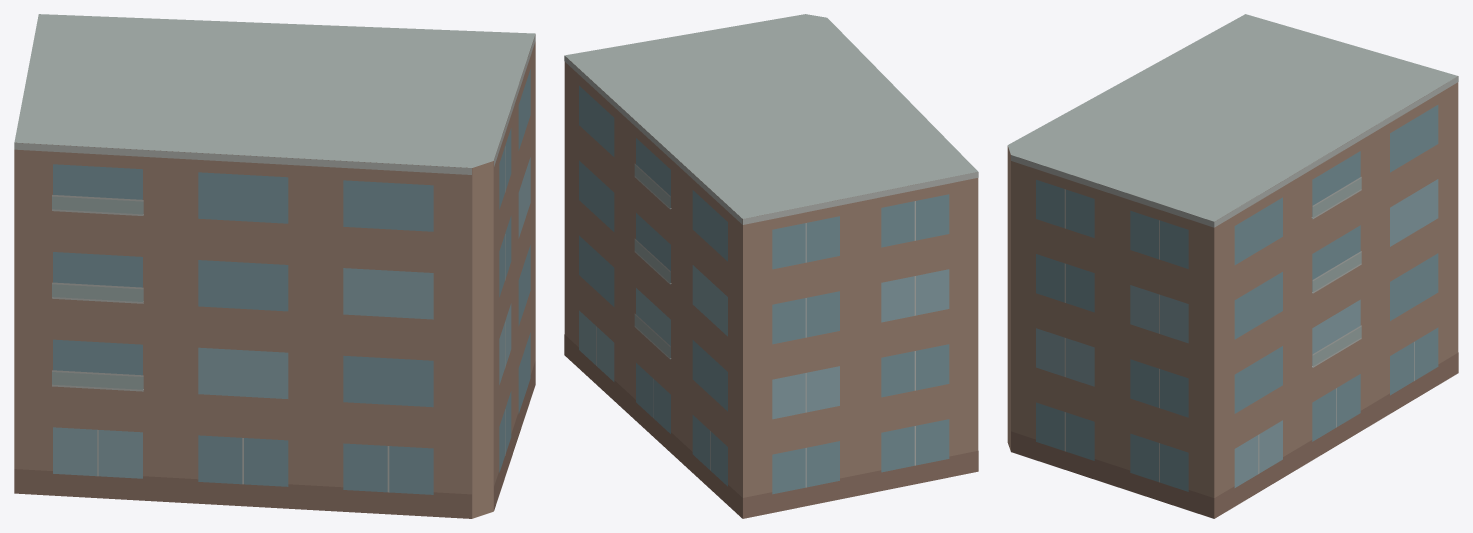
File: survey-upis-32866770.glb
The picture shows the model from 3 angles, left to right: view 1: azimuth 30°, elevation 25°; view 2: azimuth 150°, elevation 25°; view 3: azimuth 270°, elevation 25°; orthographic projection. The views are drawn at different scales.
Visible parts, largest first — view 1: survey-upis-32866770.tmp; view 2: survey-upis-32866770.tmp; view 3: survey-upis-32866770.tmp.
Boxes of the visible parts, x1,y1,x2,y2 form: survey-upis-32866770.tmp: [14, 14, 535, 518]; survey-upis-32866770.tmp: [564, 14, 978, 518]; survey-upis-32866770.tmp: [1007, 14, 1458, 518].
Bounding box in the file's own units: 18.31 × 12.2 × 16.79.
